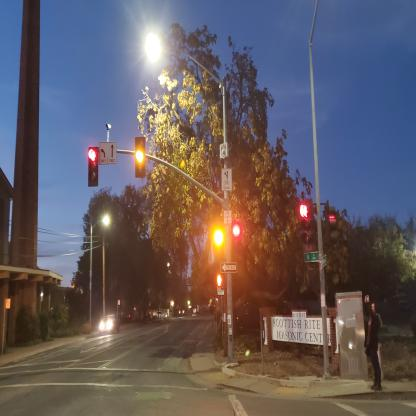left-red: (298, 194, 316, 258), (87, 142, 99, 190)
red: (231, 219, 243, 266)
yellow: (212, 213, 225, 264), (135, 135, 146, 181)
